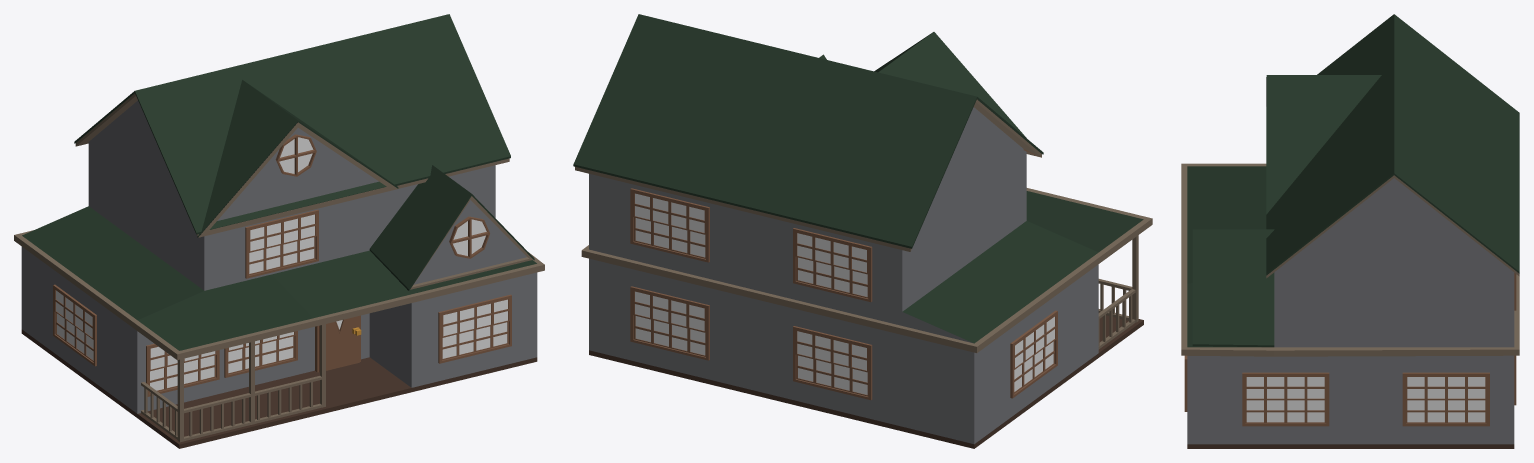
Rendered from house.glb.
3 renders of one model, left to right at view 1: azimuth 30°, elevation 25°; view 2: azimuth 150°, elevation 25°; view 3: azimuth 270°, elevation 25°, orthographic. The views are drawn at different scales.
Visible parts, largest first — view 1: SM_house_03_B; view 2: SM_house_03_B; view 3: SM_house_03_B.
Boxes of the visible parts, x1=… form: SM_house_03_B: x1=14, y1=14, x2=544, y2=448; SM_house_03_B: x1=573, y1=14, x2=1152, y2=448; SM_house_03_B: x1=1181, y1=14, x2=1519, y2=448.
Size of the model in its own units: 7.95 by 5.51 by 6.
Materials: 2 (1 with a texture image).
